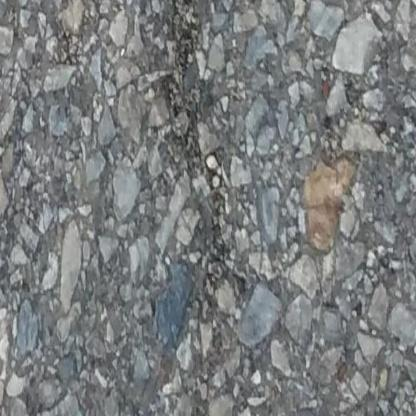Cracks: (171, 0, 221, 232)
